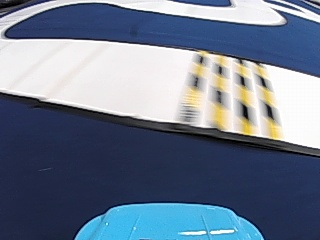bump: (175, 52, 284, 138)
